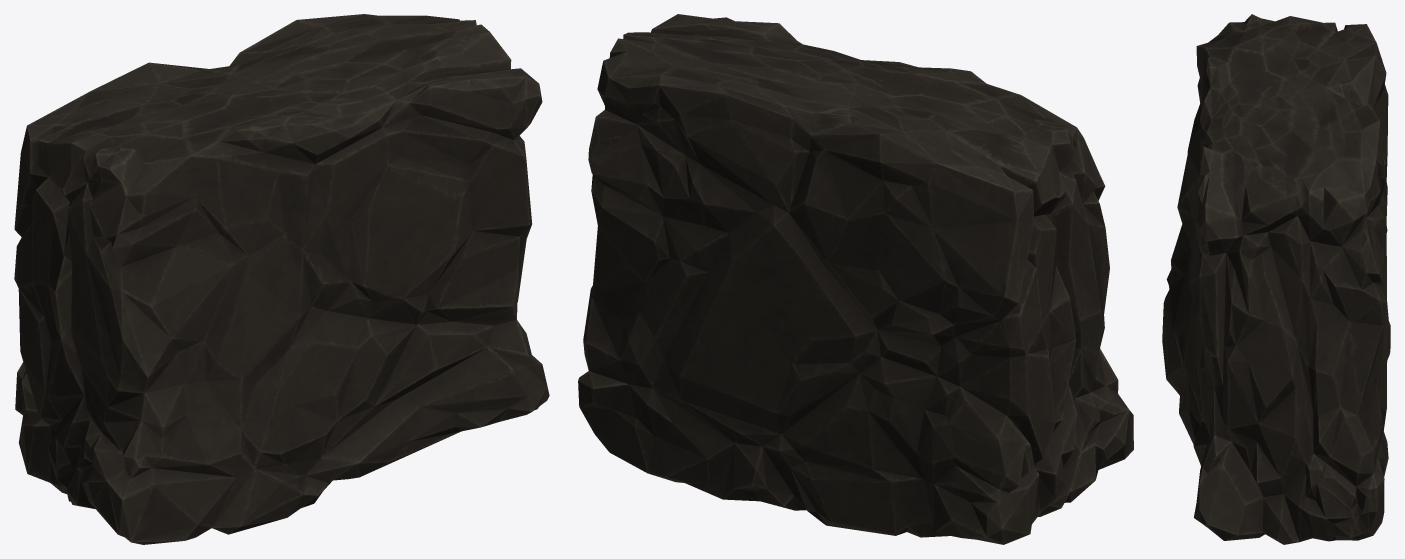
The model's file is MKCave_BRockWallFlatTop.FBX.
The picture shows the model from 3 angles, left to right: view 1: azimuth 30°, elevation 25°; view 2: azimuth 150°, elevation 25°; view 3: azimuth 270°, elevation 25°; orthographic projection. The views are drawn at different scales.
Parts seen in each view (by area): view 1: MKCave_BRockWallFlatTop_LOD0; view 2: MKCave_BRockWallFlatTop_LOD0; view 3: MKCave_BRockWallFlatTop_LOD0.
Boxes of the visible parts, x1,y1,x2,y2 form: MKCave_BRockWallFlatTop_LOD0: [14, 14, 549, 544]; MKCave_BRockWallFlatTop_LOD0: [578, 14, 1133, 544]; MKCave_BRockWallFlatTop_LOD0: [1162, 14, 1390, 544].
Size of the model in its own units: 995 by 452 by 846.
Materials: 1 (1 with a texture image).
